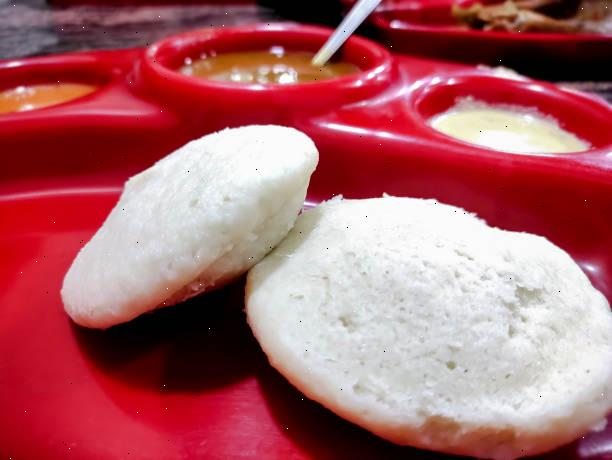coconut chutney: (437, 100, 598, 158)
idli: (59, 138, 611, 454)
sambhar: (167, 48, 374, 97)
